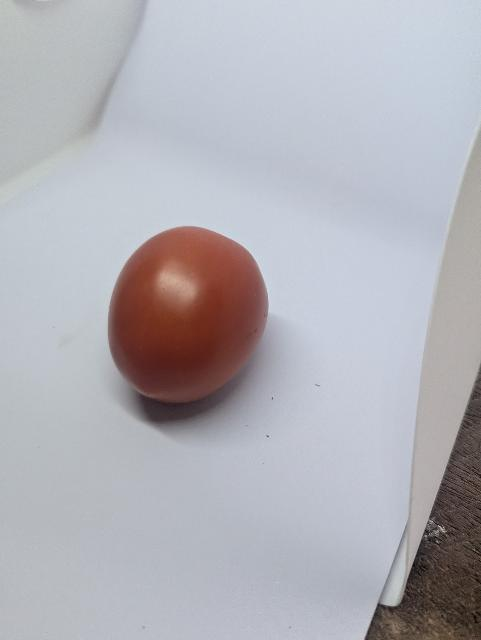red: (104, 222, 274, 411)
